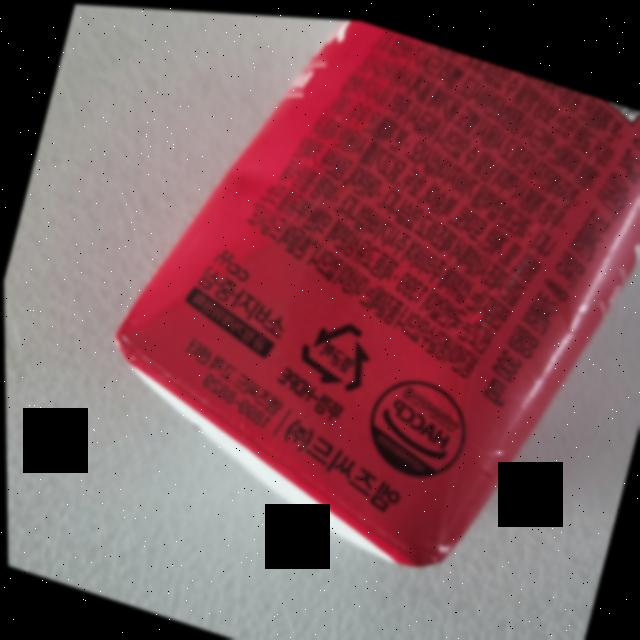SterilizedPack: (290, 299, 383, 397)
